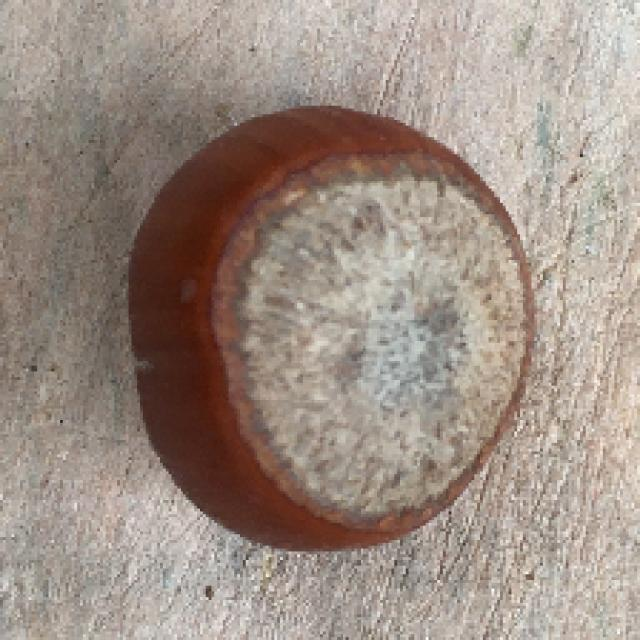qualityHazelnut: (117, 97, 549, 552)
